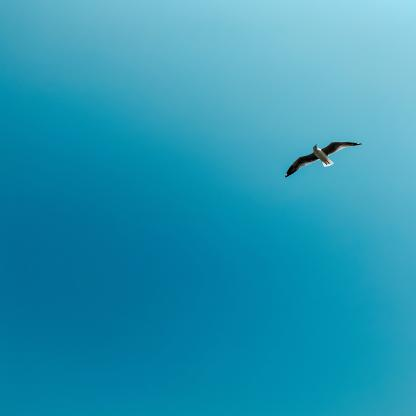bird: (284, 141, 362, 177)
